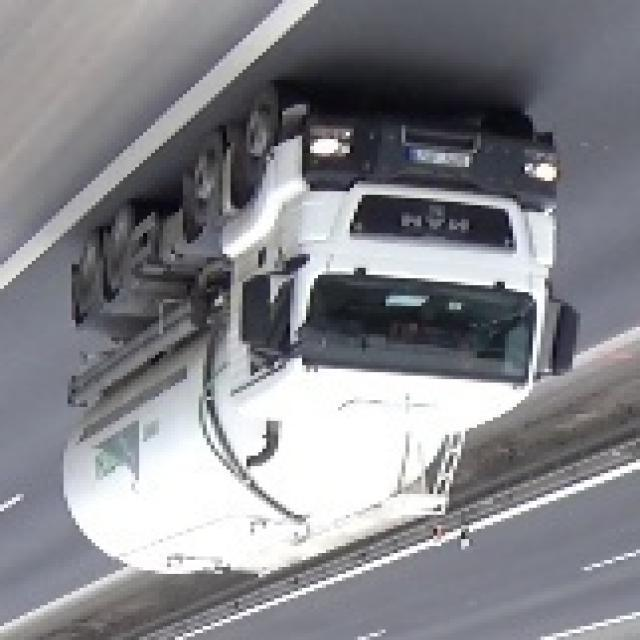Truck: (68, 83, 584, 581)
